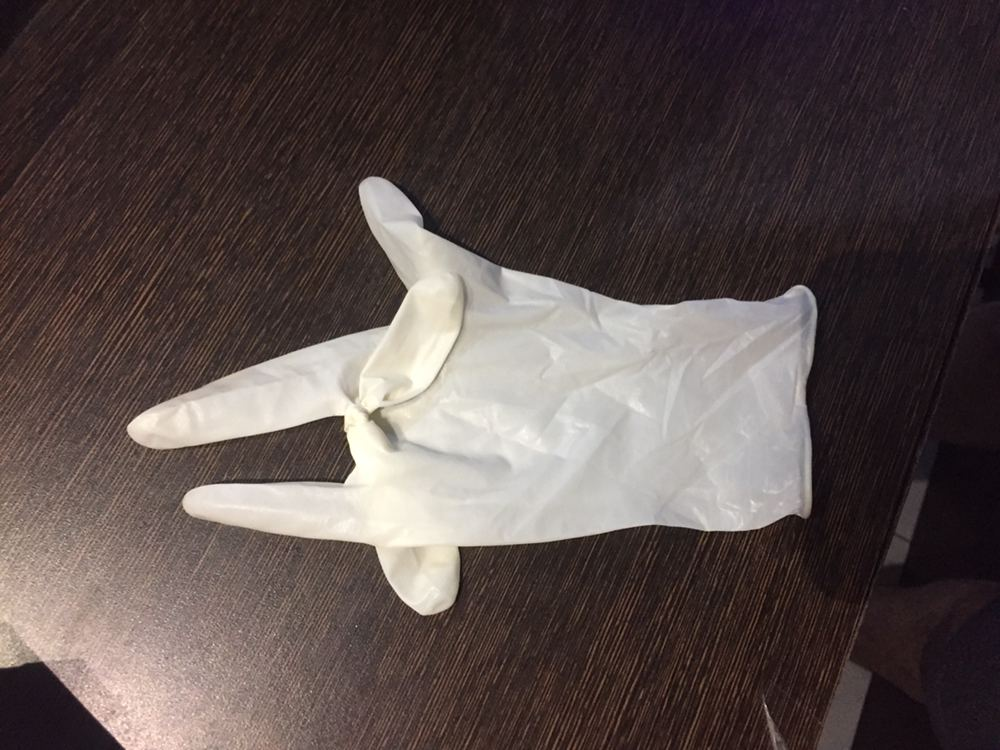defected: (127, 179, 827, 618)
